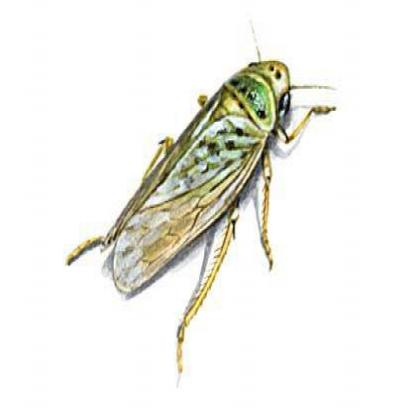Green-Leafhopper: (65, 16, 338, 380)
